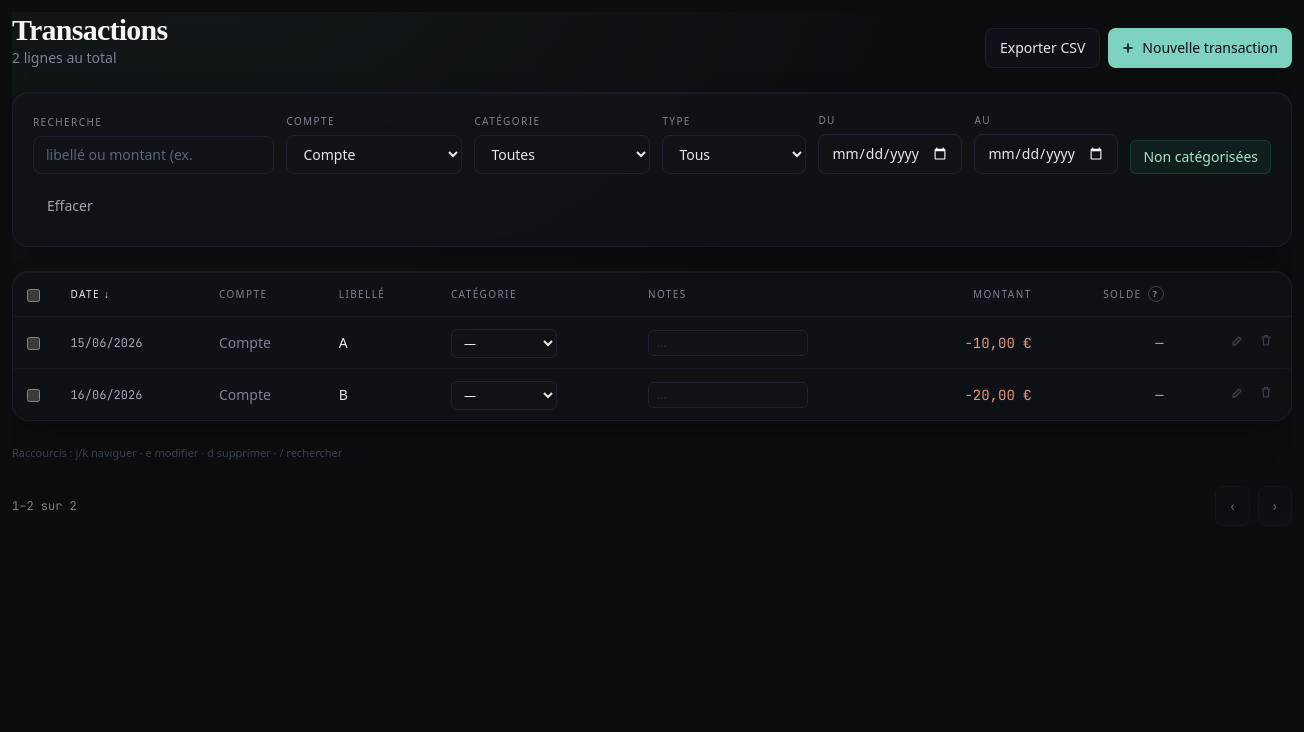
Test case: Transactions page — bulk category › on success with skipped>0 clears the selection and shows the skipped notice
Click the checkbox named "Sélectionner la transaction" at (34, 344), box [27,337,40,350]
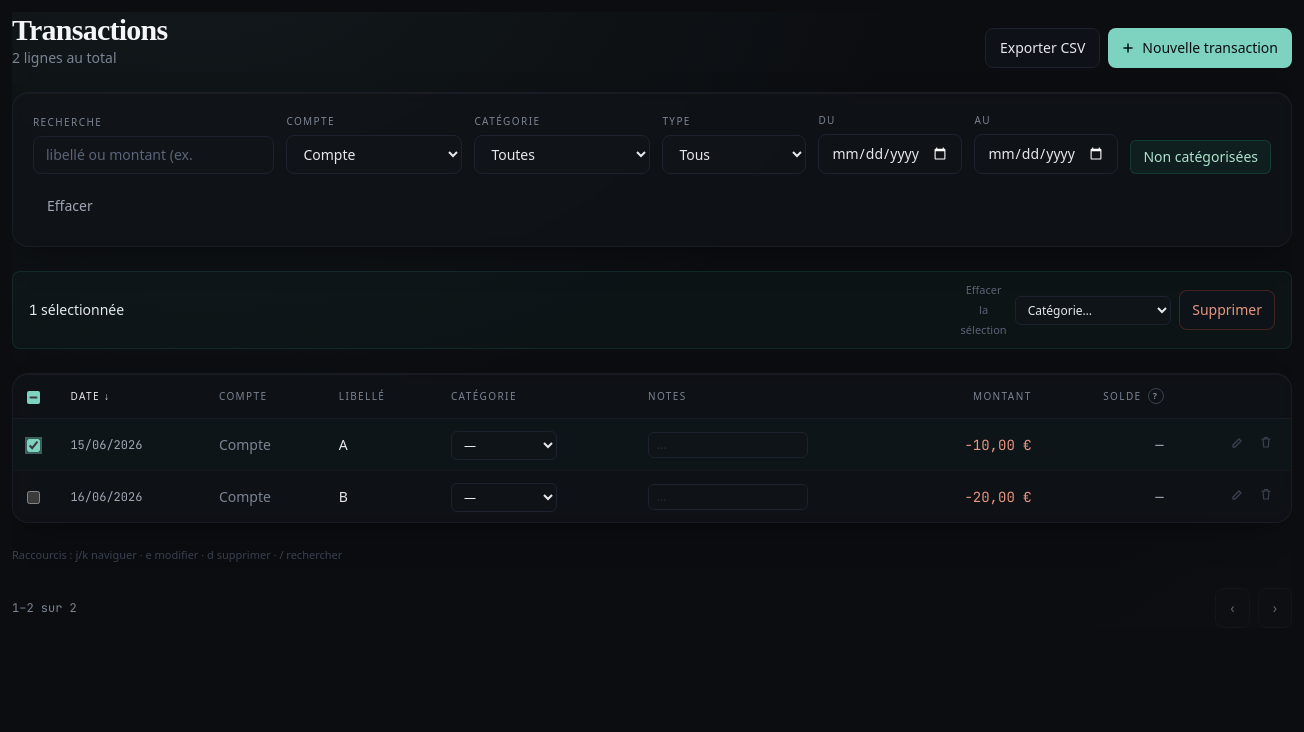
Click the checkbox named "Sélectionner la transaction" at (34, 498), box [27,491,40,504]
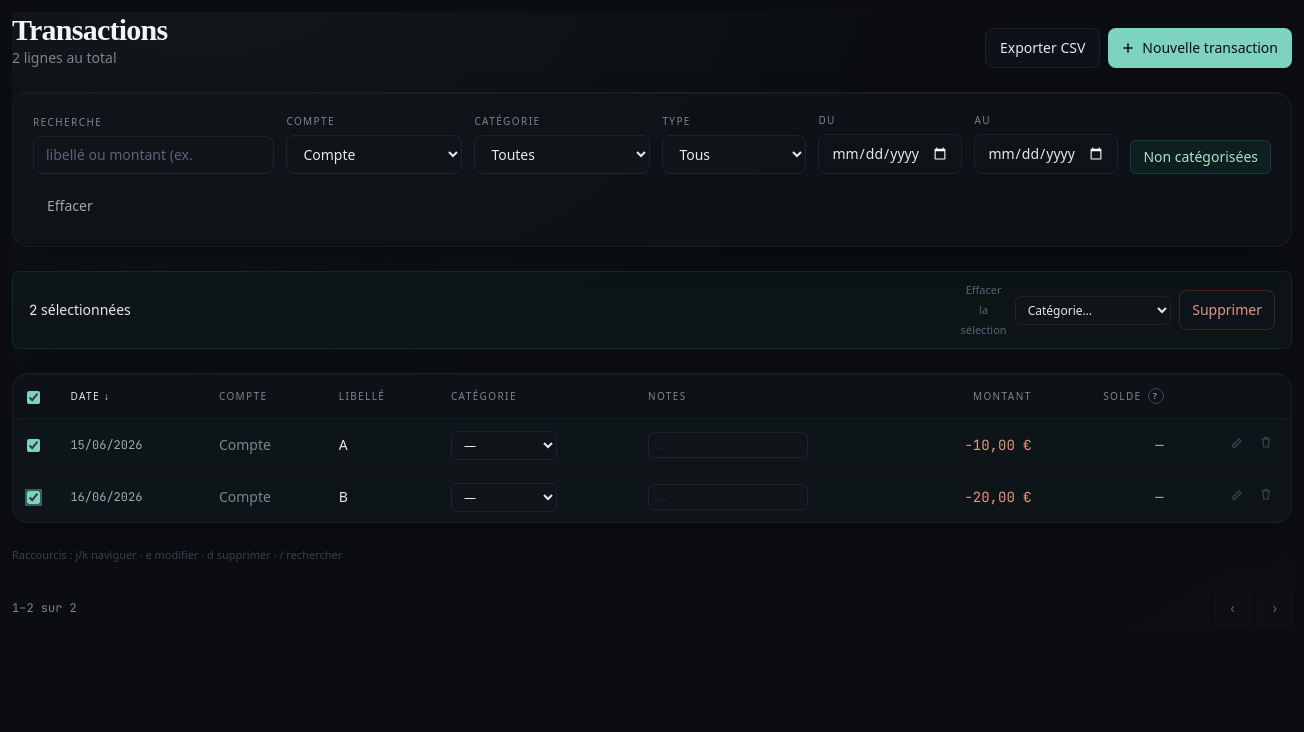
Select "Courses" in the dropdown named "Changer la catégorie des transactions sélectionnées" at (1093, 310), box [1015,296,1171,324]
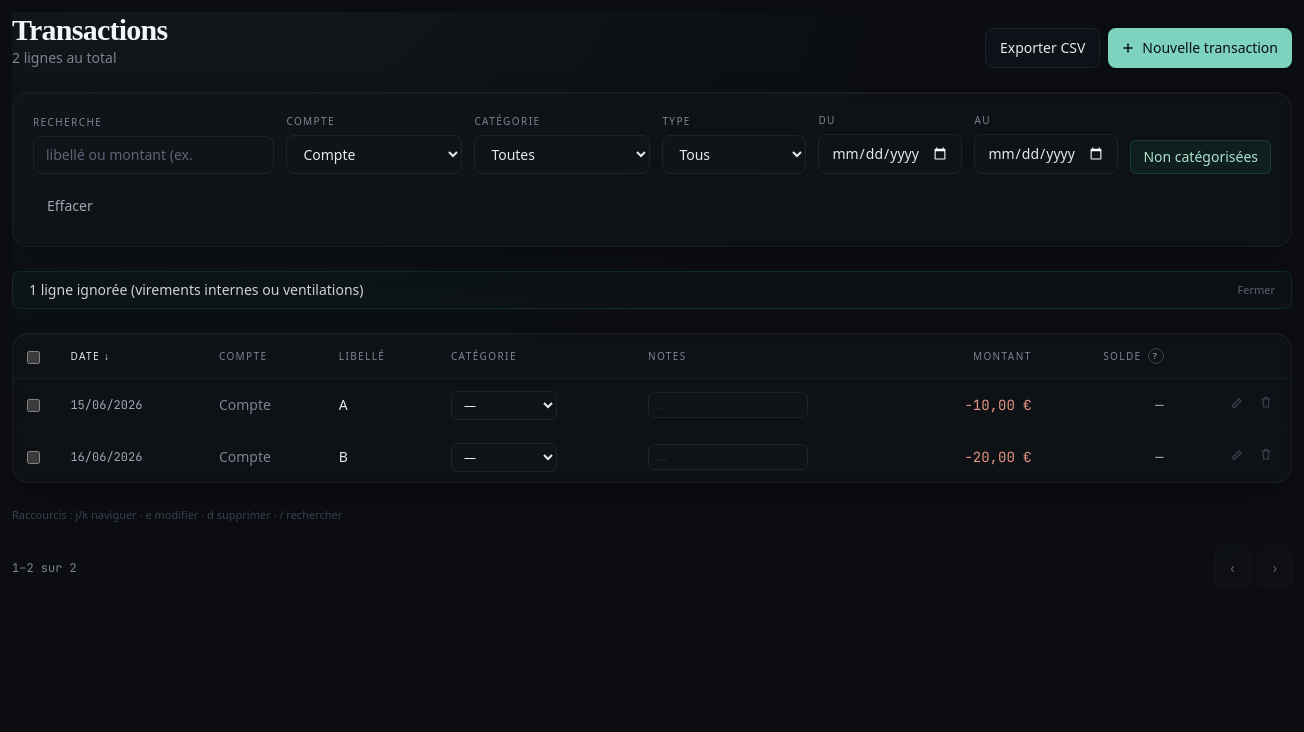
Check: the text "1 ligne ignorée (virements internes ou ventilations)" is shown, box [29,280,364,300]
